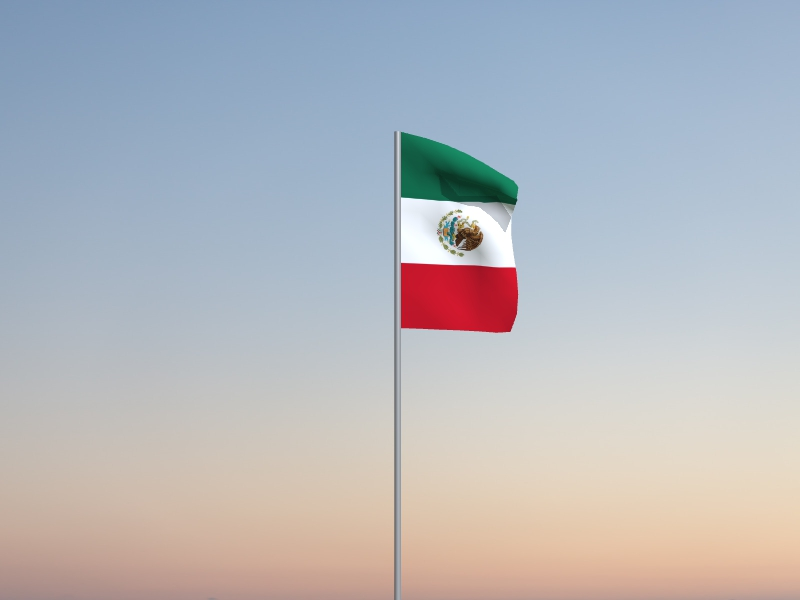mx: (401, 133, 520, 334)
